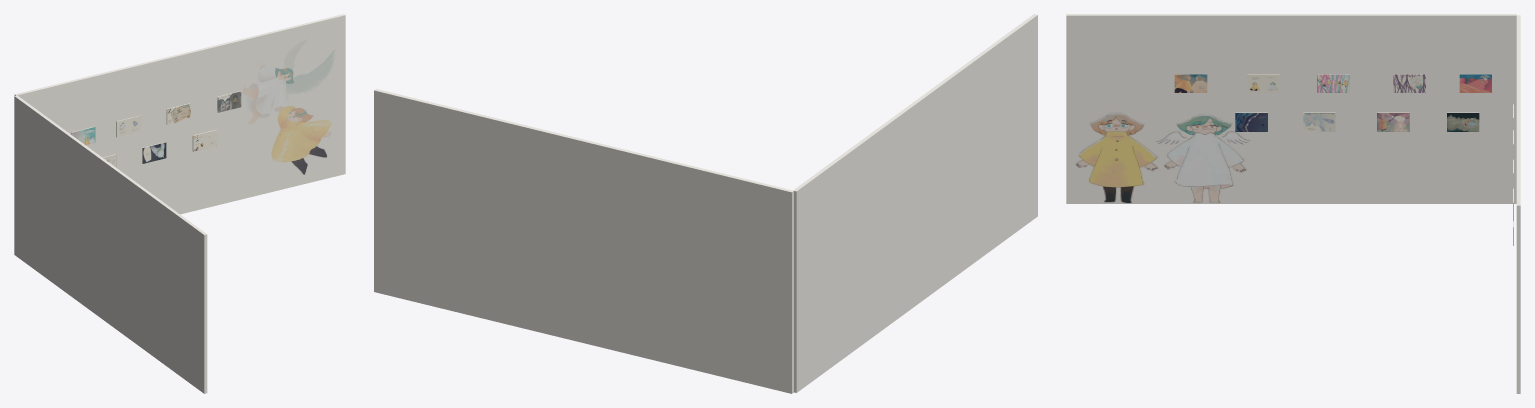
The model's file is Chenyu_work (2).fbx.
3 renders of one model, left to right at view 1: azimuth 30°, elevation 25°; view 2: azimuth 150°, elevation 25°; view 3: azimuth 270°, elevation 25°, orthographic. The views are drawn at different scales.
Parts seen in each view (by area): view 1: wall1, wall2, work05, work01, work03, work04, work02, work07; view 2: wall1, wall2; view 3: wall2, wall1, work12, work14, work16, work10, work17, work09, work11, work13, work15.
Boxes of the visible parts, left/top/right/bottom form: wall1: left=14, top=14, right=345, bottom=214; wall2: left=14, top=95, right=207, bottom=393; work05: left=116, top=115, right=140, bottom=137; work01: left=217, top=91, right=241, bottom=112; work03: left=166, top=103, right=190, bottom=125; work04: left=142, top=142, right=166, bottom=163; work02: left=192, top=129, right=216, bottom=151; work07: left=71, top=126, right=95, bottom=144; wall1: left=374, top=89, right=793, bottom=393; wall2: left=793, top=14, right=1037, bottom=392; wall2: left=1066, top=14, right=1516, bottom=203; wall1: left=1516, top=15, right=1520, bottom=393; work12: left=1377, top=112, right=1409, bottom=131; work14: left=1303, top=112, right=1335, bottom=131; work16: left=1235, top=112, right=1267, bottom=131; work10: left=1447, top=112, right=1479, bottom=131; work17: left=1174, top=74, right=1207, bottom=92; work09: left=1459, top=74, right=1491, bottom=92; work11: left=1393, top=74, right=1425, bottom=92; work13: left=1317, top=74, right=1349, bottom=92; work15: left=1247, top=74, right=1279, bottom=92.
Size of the model in its own units: 655 by 300 by 657.
Materials: 10 (10 with a texture image).
